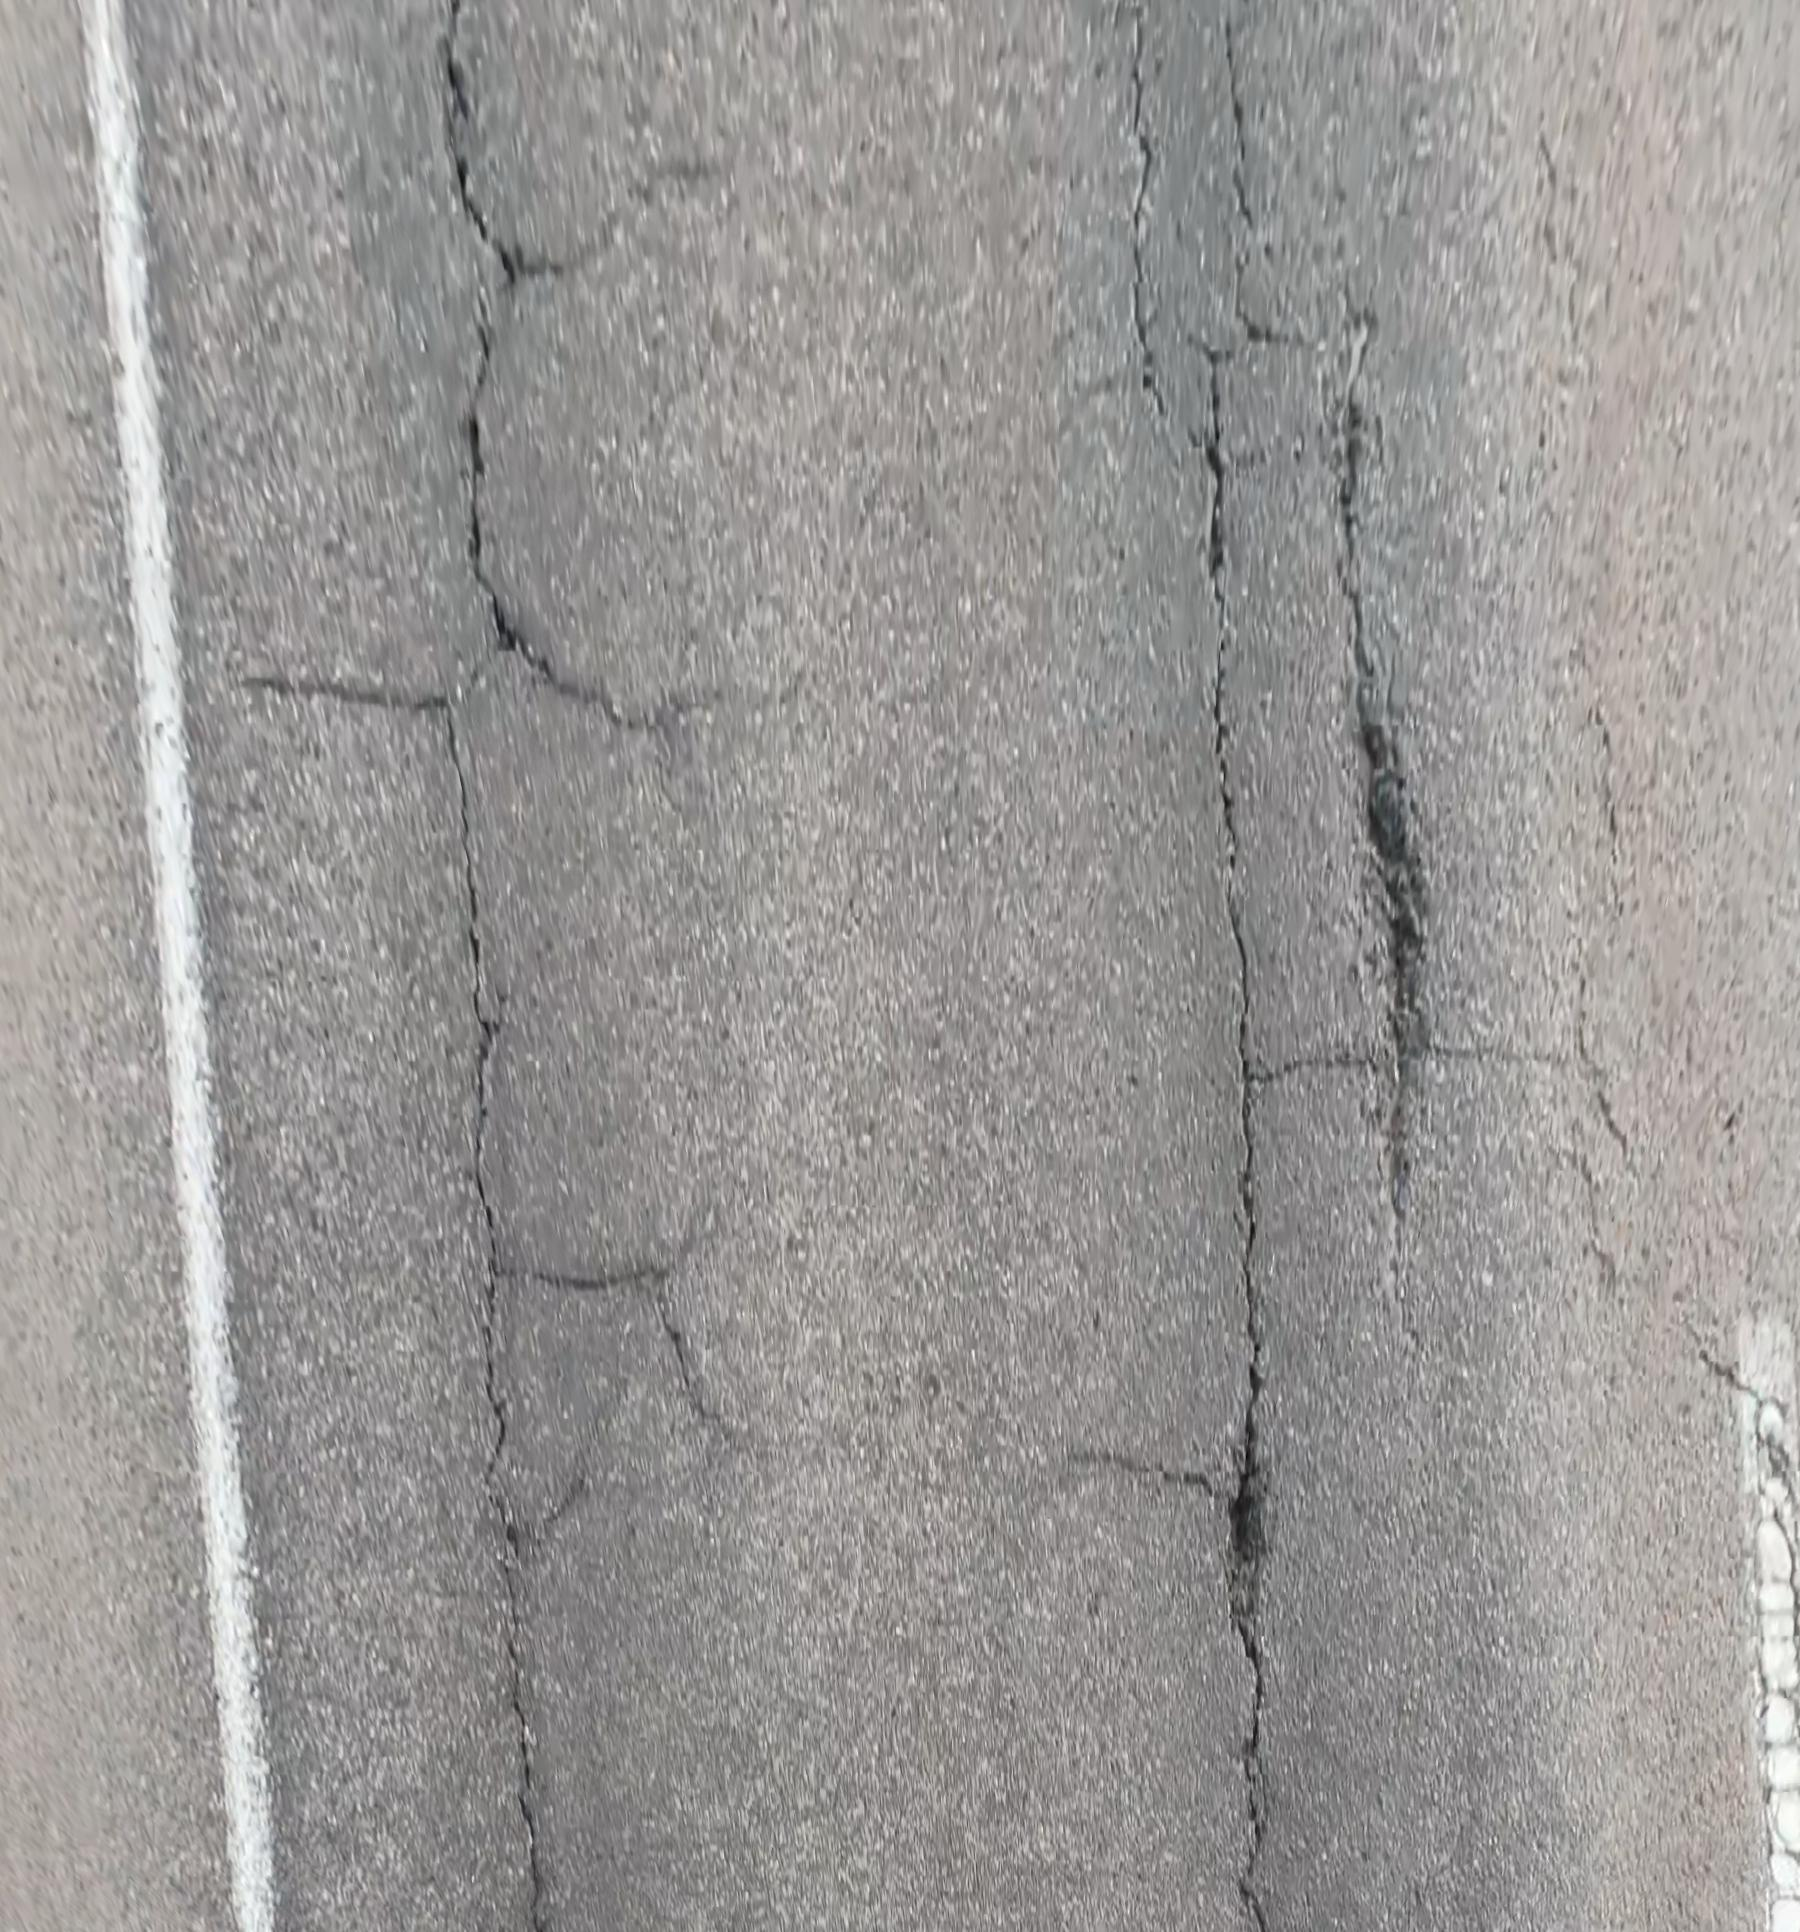pothole: (1357, 628, 1435, 1221), (1232, 1402, 1274, 1653)
